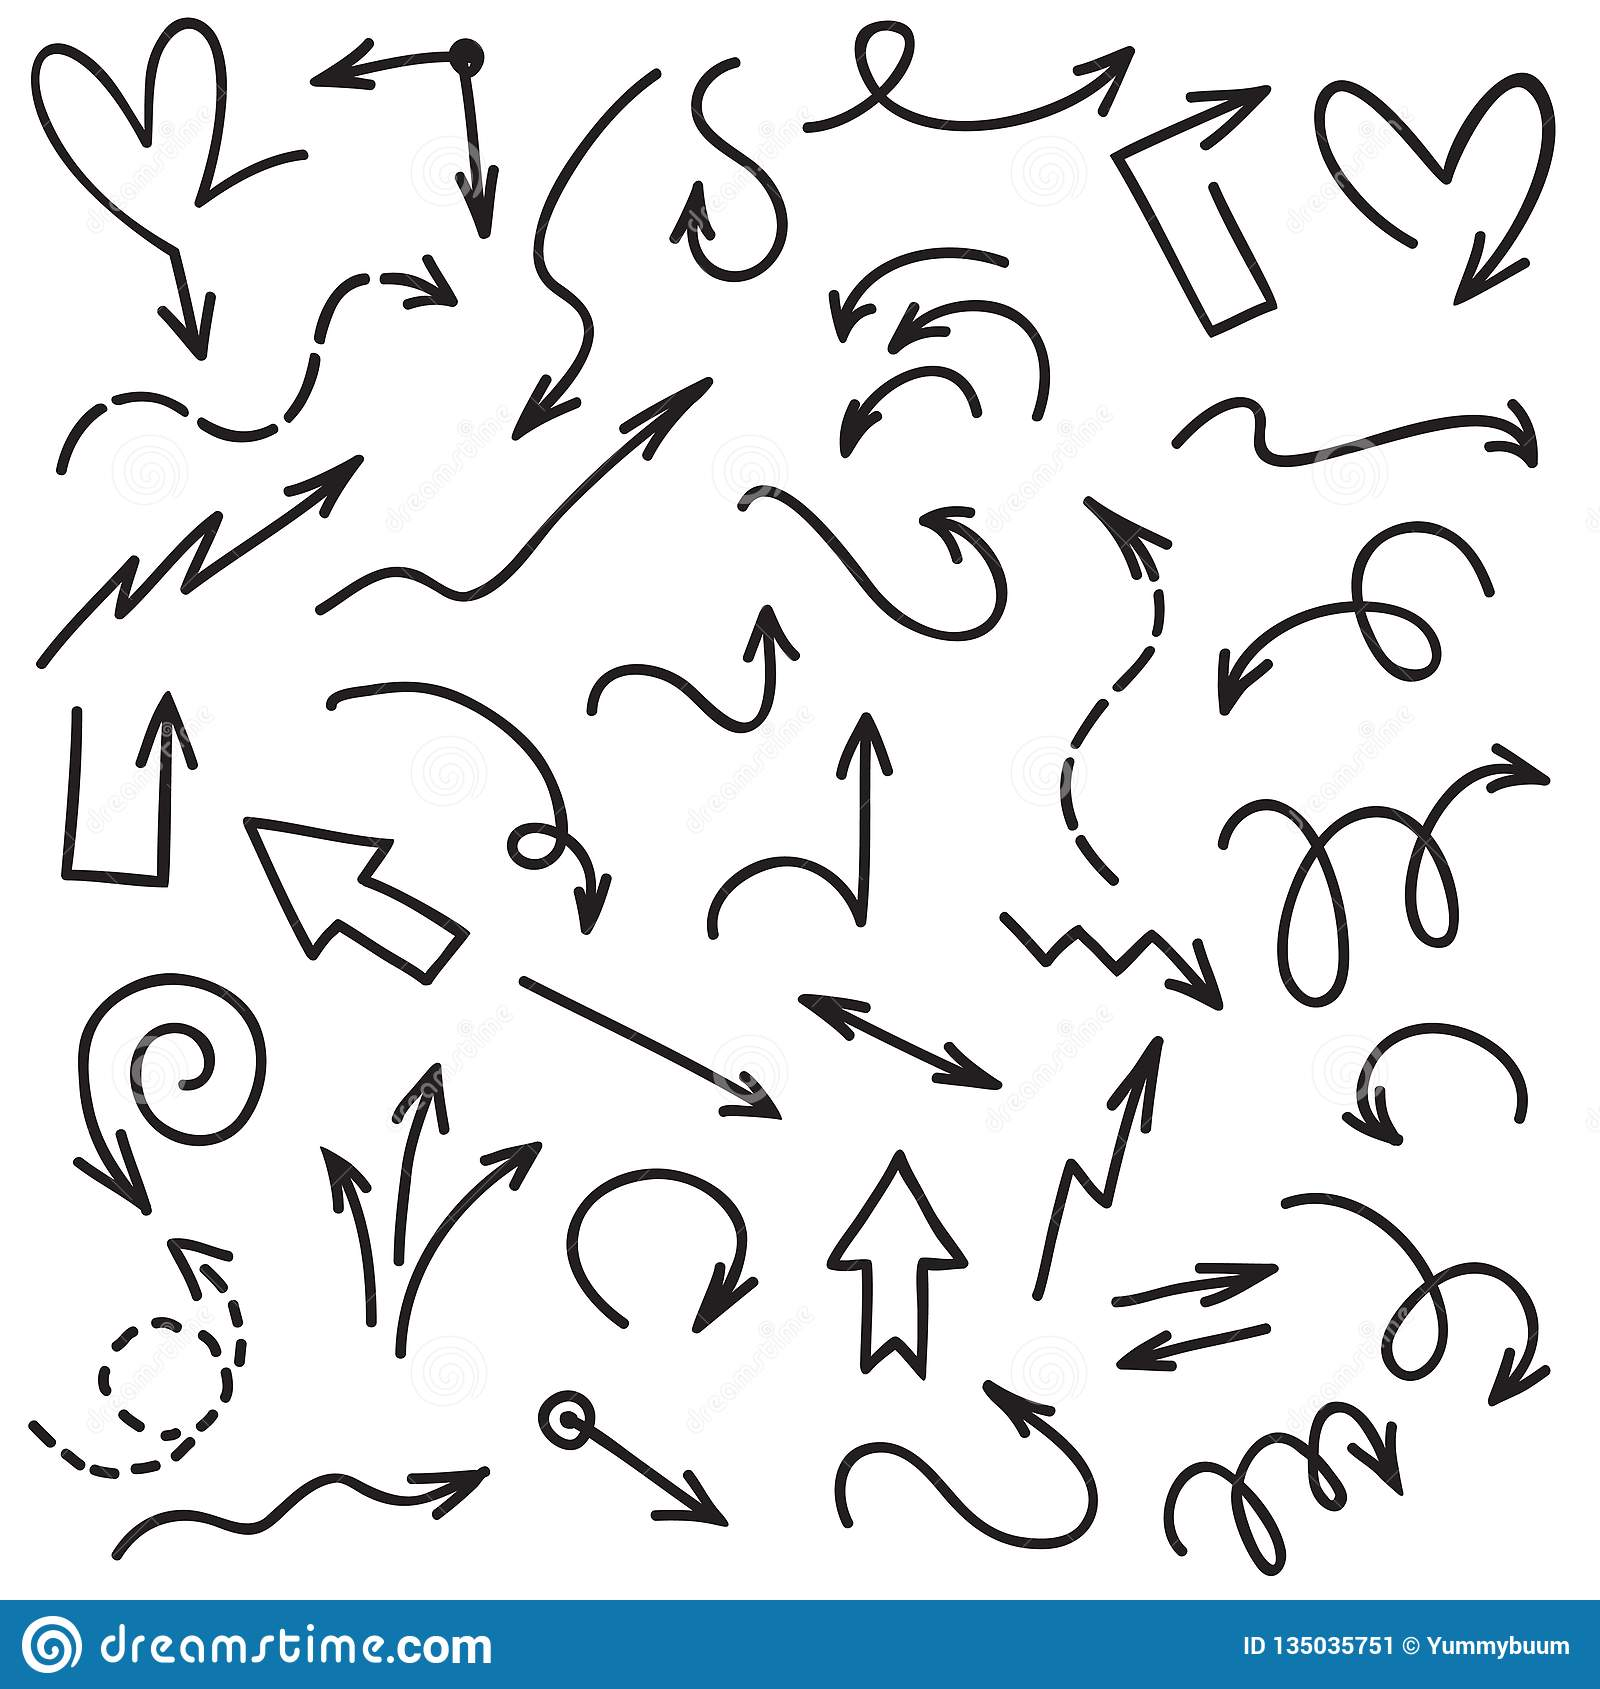arrow: (229, 805, 432, 984), (826, 1143, 971, 1337), (1074, 493, 1183, 656), (644, 1027, 786, 1130), (589, 368, 714, 481), (977, 1379, 1098, 1493), (59, 1084, 158, 1218), (120, 689, 206, 844), (1389, 387, 1544, 469), (1447, 194, 1552, 313), (426, 1143, 544, 1245), (1209, 608, 1308, 722), (1009, 39, 1137, 126), (823, 710, 899, 854), (235, 453, 364, 537), (1149, 72, 1278, 156), (916, 496, 1014, 606), (158, 1236, 253, 1343), (1101, 1033, 1168, 1181), (689, 1220, 771, 1336), (140, 253, 221, 368), (1483, 1301, 1562, 1418), (332, 244, 459, 317), (508, 329, 589, 444), (802, 984, 916, 1065), (301, 27, 429, 98), (385, 1057, 454, 1187), (370, 1460, 498, 1530), (1138, 1256, 1277, 1318), (435, 117, 502, 239), (883, 284, 997, 355), (1152, 911, 1226, 1017), (1116, 1322, 1251, 1379), (1438, 735, 1552, 803), (735, 603, 805, 711), (1335, 1053, 1409, 1154), (320, 1145, 376, 1275), (662, 171, 726, 272), (838, 365, 904, 462), (826, 247, 883, 347), (561, 862, 621, 939)
